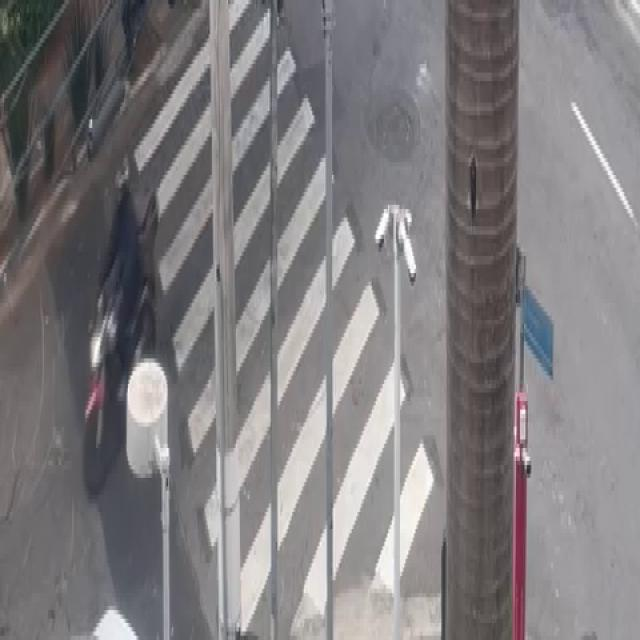motorbike: (81, 186, 164, 466)
